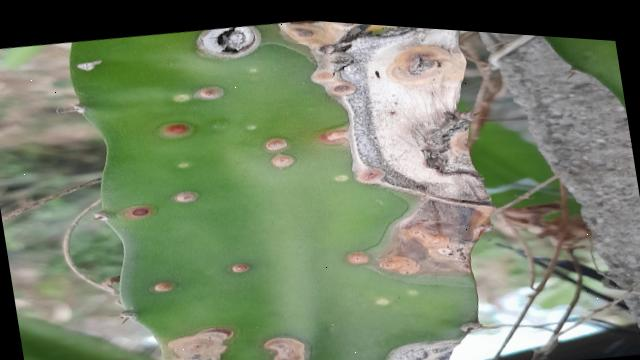stemcanker: (70, 58, 352, 360)
